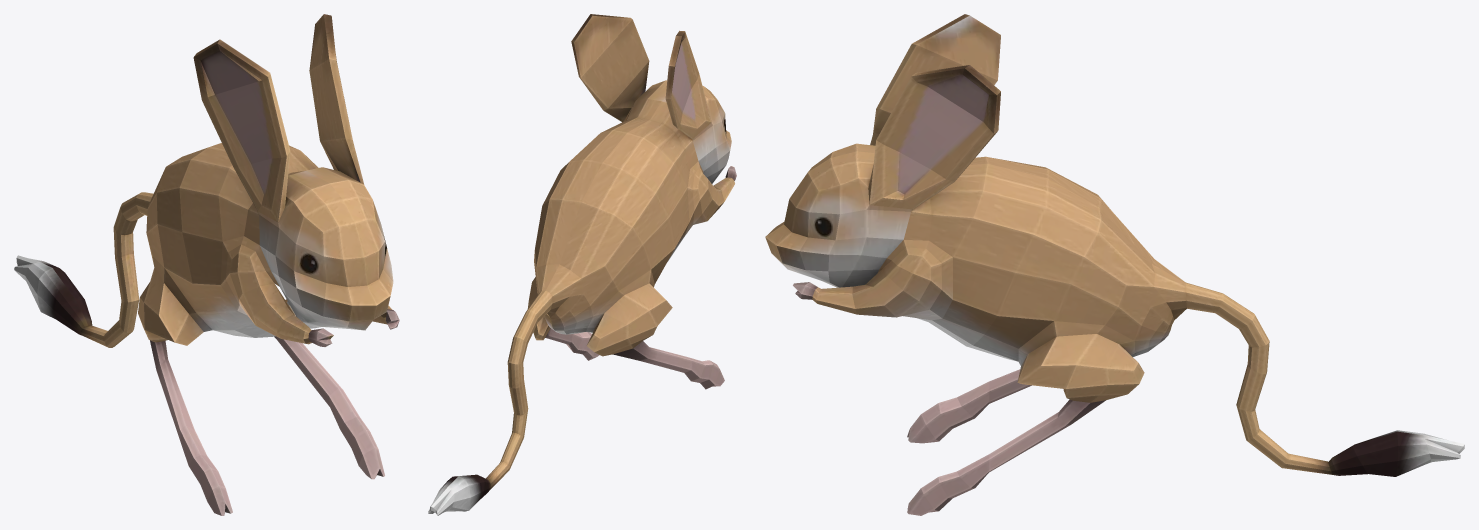
Rendered from 3gcaSUNcs9A.glb.
3 views of the same model, side by side, from view 1: azimuth 30°, elevation 25°; view 2: azimuth 150°, elevation 25°; view 3: azimuth 270°, elevation 25° (orthographic). The views are drawn at different scales.
Parts seen in each view (by area): view 1: Jerboa_mesh; view 2: Jerboa_mesh; view 3: Jerboa_mesh.
Part boxes in pixels (bbox=[...]): Jerboa_mesh: bbox=[14, 14, 399, 515]; Jerboa_mesh: bbox=[428, 14, 736, 515]; Jerboa_mesh: bbox=[765, 14, 1464, 515].
Size of the model in its own units: 0.3881 by 0.9999 by 1.45.
1 material, 1 textured.
